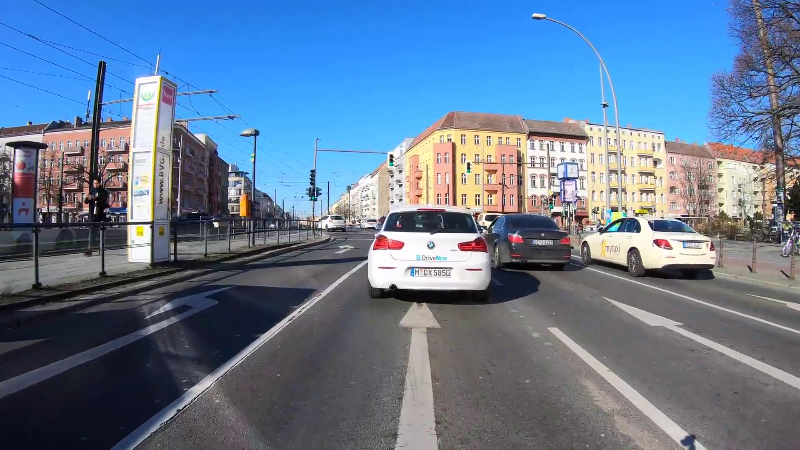Plate: (409, 266, 451, 278), (531, 238, 555, 246), (682, 241, 704, 249)
